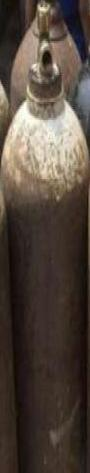cylinder: (1, 1, 90, 473)
